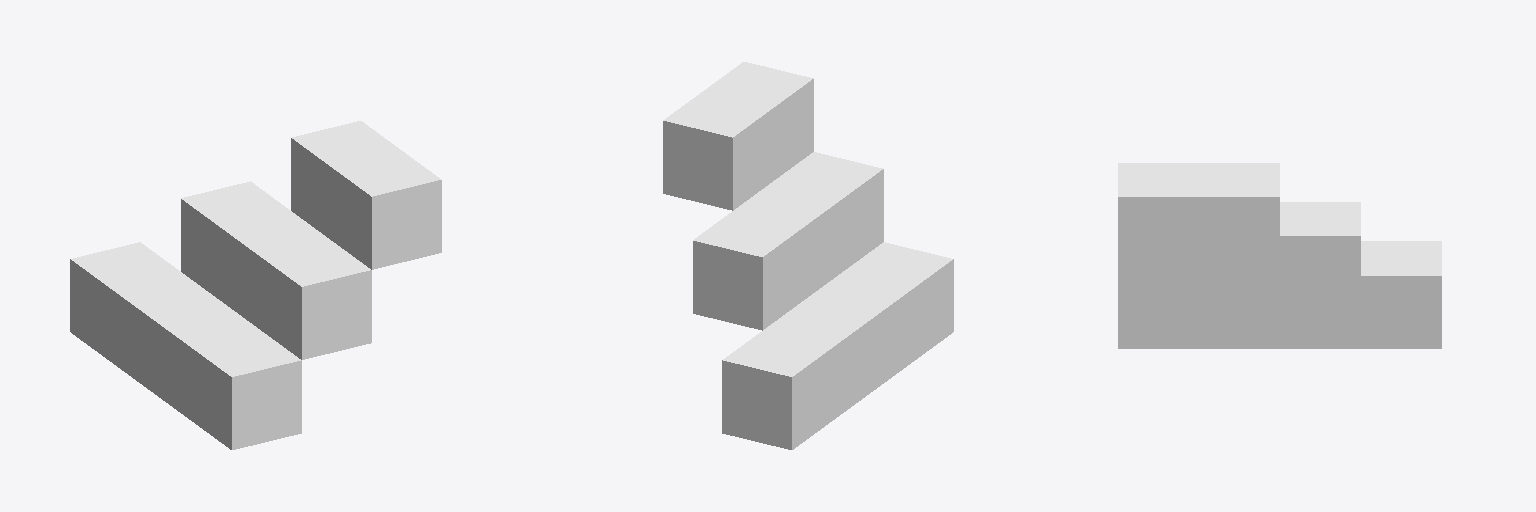
File: YellowHouseParts-86.obj
3 views of the same model, side by side, from view 1: azimuth 30°, elevation 25°; view 2: azimuth 150°, elevation 25°; view 3: azimuth 270°, elevation 25° (orthographic).
Parts seen in each view (by area): view 1: object 1; view 2: object 1; view 3: object 1.
Part boxes in pixels (x1,y1,x2,y2): object 1: (70, 121, 441, 449); object 1: (663, 62, 953, 449); object 1: (1118, 163, 1441, 348).
Size of the model in its own units: 0.3 by 0.3 by 0.4.